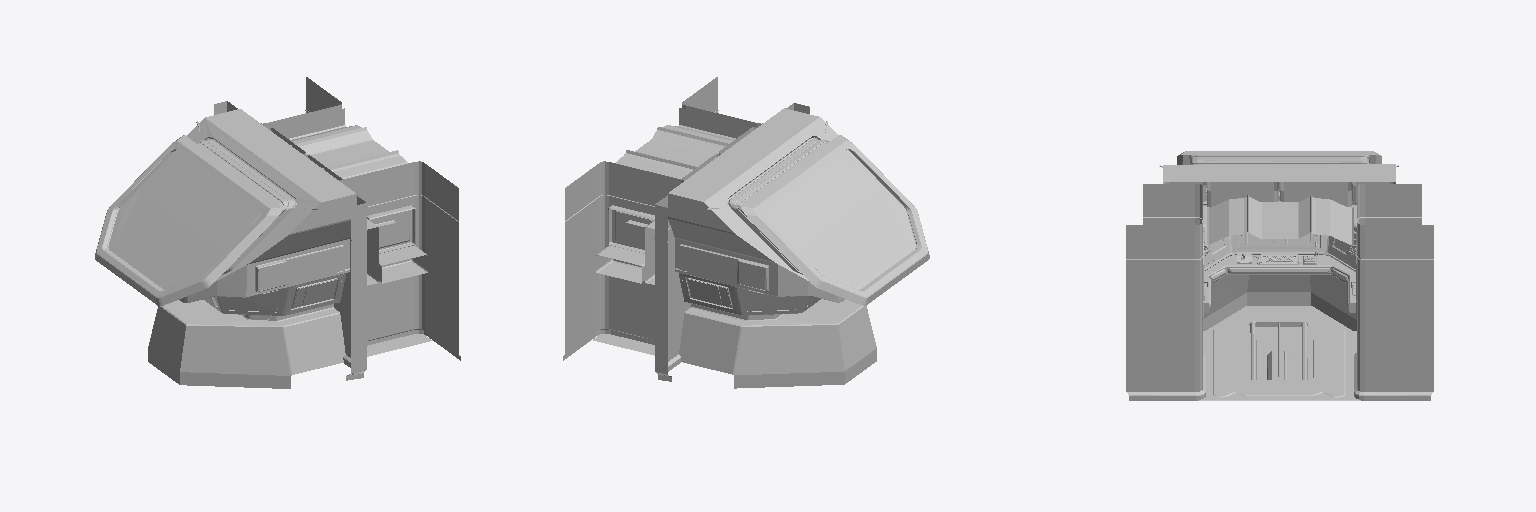
Rendered from front.obj.
The picture shows the model from 3 angles: view 1: azimuth 30°, elevation 25°; view 2: azimuth 150°, elevation 25°; view 3: azimuth 270°, elevation 25°; orthographic projection.
Parts seen in each view (by area): view 1: entry_6024_pkOBJ_entry_6024_pkOBJ.001, entry_6030_pkOBJ, entry_6036_pkOBJ, entry_6033_pkOBJ, entry_6028_pkOBJ, entry_6034_pkOBJ; view 2: entry_6024_pkOBJ_entry_6024_pkOBJ.001, entry_6030_pkOBJ, entry_6036_pkOBJ, entry_6033_pkOBJ, entry_6028_pkOBJ, entry_6034_pkOBJ; view 3: entry_6024_pkOBJ_entry_6024_pkOBJ.001, entry_6030_pkOBJ, entry_6033_pkOBJ, entry_6029_pkOBJ, entry_6025_pkOBJ, entry_6028_pkOBJ, entry_6034_pkOBJ.
Boxes of the visible parts, box(x1,y1,x2,y2) form: entry_6024_pkOBJ_entry_6024_pkOBJ.001: box(148, 108, 432, 388); entry_6030_pkOBJ: box(214, 77, 460, 380); entry_6036_pkOBJ: box(108, 150, 260, 289); entry_6033_pkOBJ: box(95, 118, 320, 305); entry_6028_pkOBJ: box(204, 278, 338, 309); entry_6034_pkOBJ: box(107, 140, 287, 289); entry_6024_pkOBJ_entry_6024_pkOBJ.001: box(593, 108, 876, 388); entry_6030_pkOBJ: box(563, 77, 809, 381); entry_6036_pkOBJ: box(763, 149, 915, 289); entry_6033_pkOBJ: box(704, 117, 929, 305); entry_6028_pkOBJ: box(685, 277, 819, 309); entry_6034_pkOBJ: box(736, 140, 916, 289); entry_6024_pkOBJ_entry_6024_pkOBJ.001: box(1163, 164, 1395, 400); entry_6030_pkOBJ: box(1126, 184, 1433, 400); entry_6033_pkOBJ: box(1177, 151, 1381, 196); entry_6029_pkOBJ: box(1257, 340, 1301, 379); entry_6025_pkOBJ: box(1209, 268, 1348, 308); entry_6028_pkOBJ: box(1237, 232, 1321, 261); entry_6034_pkOBJ: box(1189, 155, 1369, 163).
Bounding box in the file's own units: 58.39 × 40.69 × 59.85.